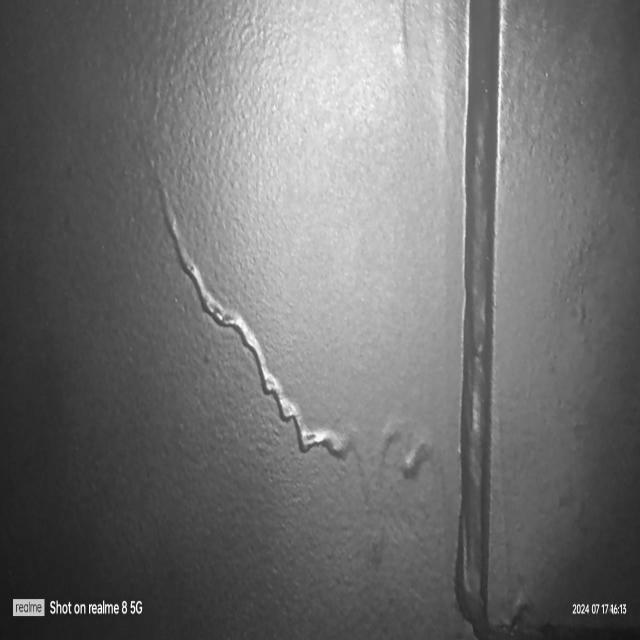paint drips: (157, 158, 452, 584)
